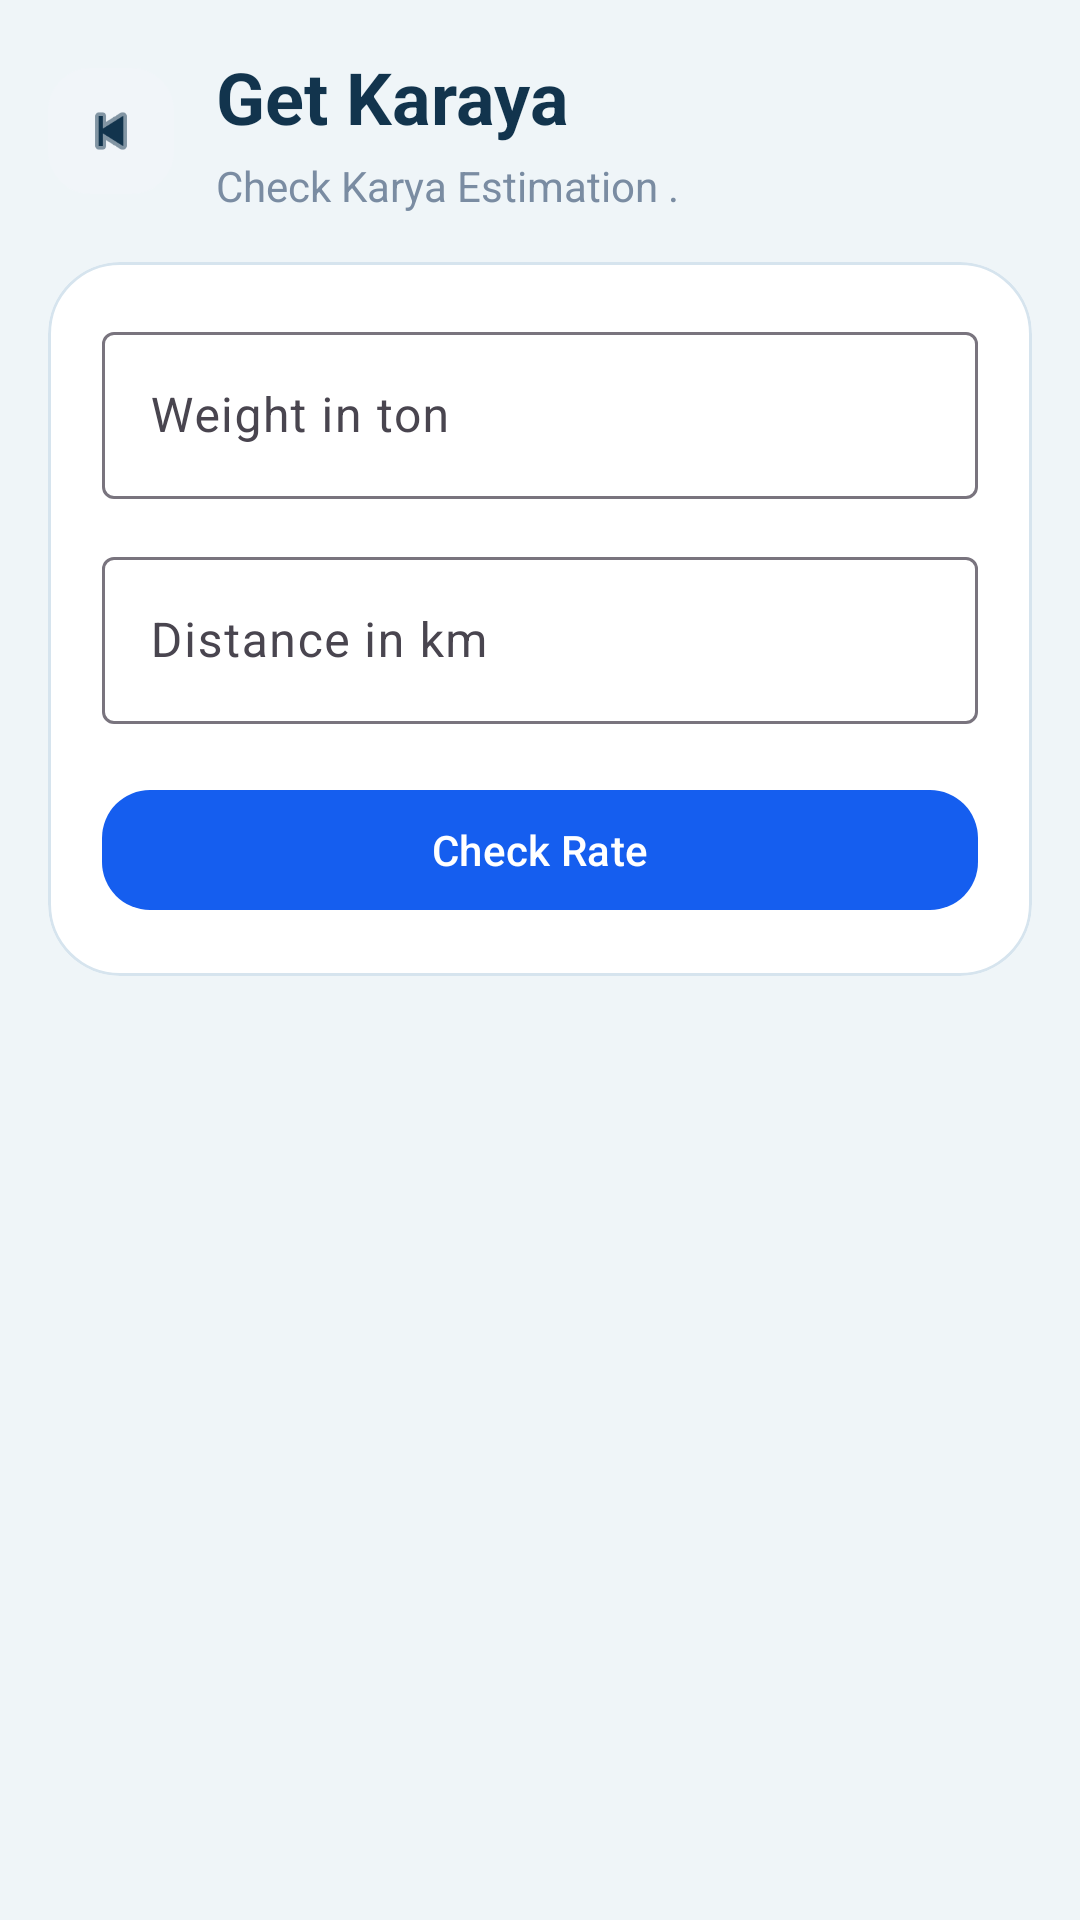

Where icons sit on this 1080px x 1920px app screen, as Rect(x1, y1, x2, y2):
Back: Rect(95, 112, 127, 150)
